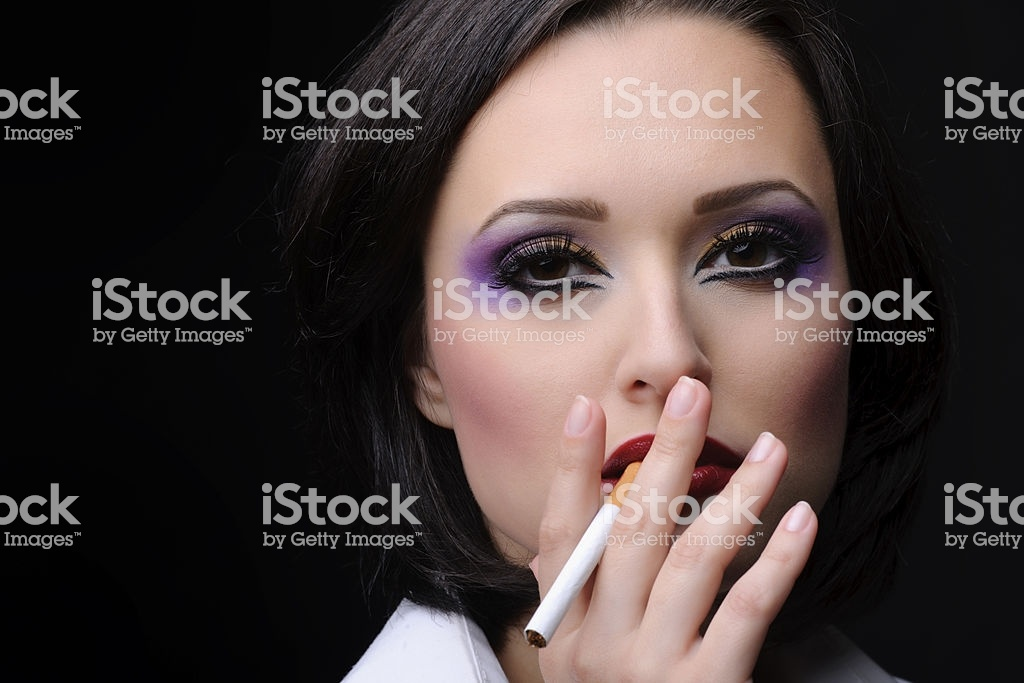sigaretta: (513, 458, 638, 659)
